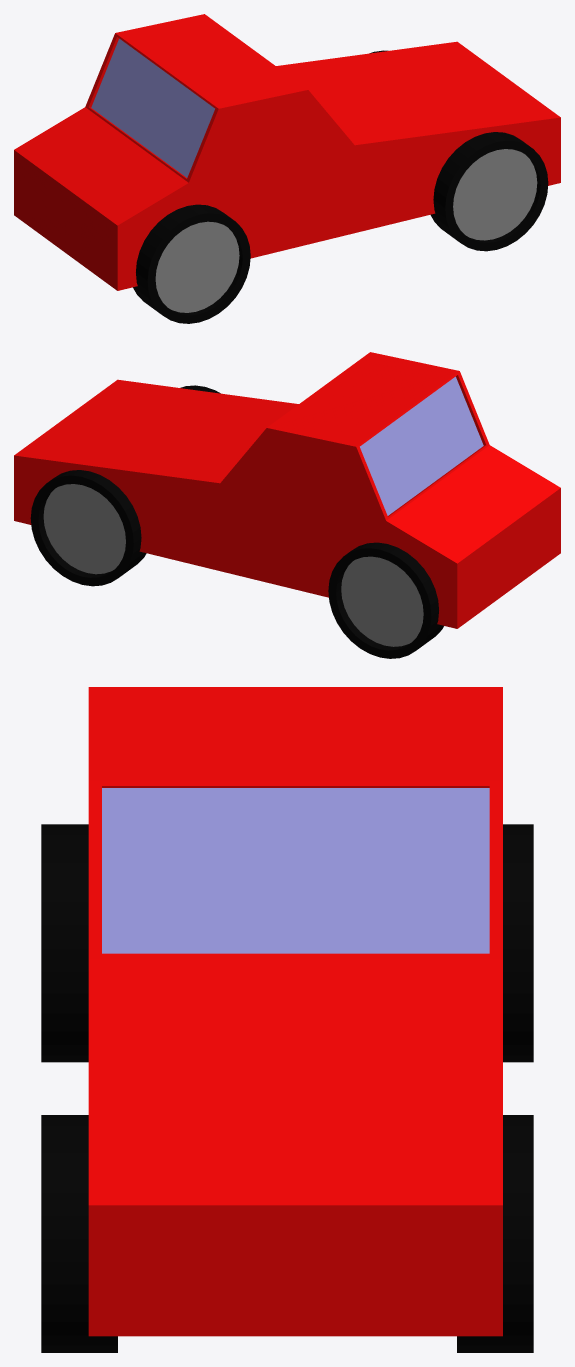
The model's file is random_car_model.dae.
3 renders of one model, top to bottom at view 1: azimuth 30°, elevation 25°; view 2: azimuth 150°, elevation 25°; view 3: azimuth 270°, elevation 25°, orthographic. The views are drawn at different scales.
Parts seen in each view (by area): view 1: DLR_Car; view 2: DLR_Car; view 3: DLR_Car.
Boxes of the visible parts, x1,y1,x2,y2 form: DLR_Car: (14, 14, 560, 323); DLR_Car: (14, 352, 560, 658); DLR_Car: (41, 687, 533, 1352).
Size of the model in its own units: 4.94 by 2.38 by 2.1.
